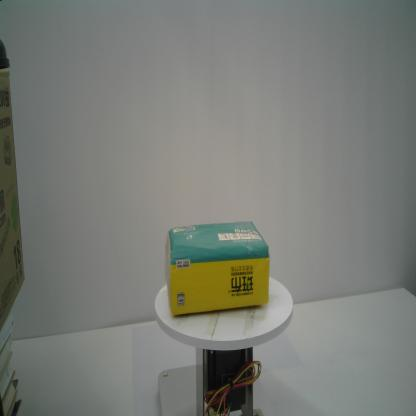Tissue: (164, 218, 270, 316)
